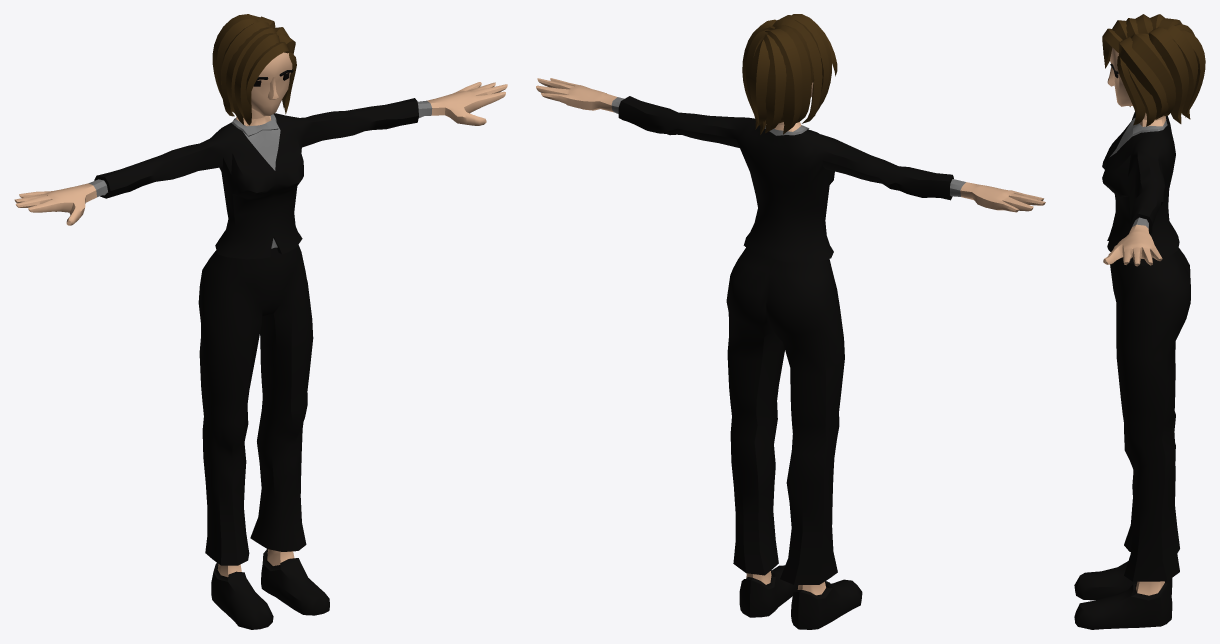
The model's file is staff0.fbx.
3 renders of one model, left to right at view 1: azimuth 30°, elevation 25°; view 2: azimuth 150°, elevation 25°; view 3: azimuth 270°, elevation 25°, orthographic. The views are drawn at different scales.
Visible parts, largest first — view 1: Suit_Legs, Suit_Body, Suit_Head, Suit_Feet; view 2: Suit_Legs, Suit_Body, Suit_Head, Suit_Feet; view 3: Suit_Legs, Suit_Body, Suit_Head, Suit_Feet.
Part boxes in pixels (bbox=[...]): Suit_Legs: bbox=[198, 245, 313, 565]; Suit_Body: bbox=[14, 82, 507, 259]; Suit_Head: bbox=[212, 14, 296, 125]; Suit_Feet: bbox=[211, 549, 329, 629]; Suit_Legs: bbox=[726, 247, 844, 584]; Suit_Body: bbox=[536, 78, 1045, 262]; Suit_Head: bbox=[742, 14, 837, 134]; Suit_Feet: bbox=[739, 565, 862, 629]; Suit_Legs: bbox=[1110, 248, 1190, 581]; Suit_Body: bbox=[1102, 53, 1179, 266]; Suit_Head: bbox=[1102, 14, 1205, 126]; Suit_Feet: bbox=[1074, 561, 1172, 629].
Size of the model in its own units: 165 by 185 by 37.12.
